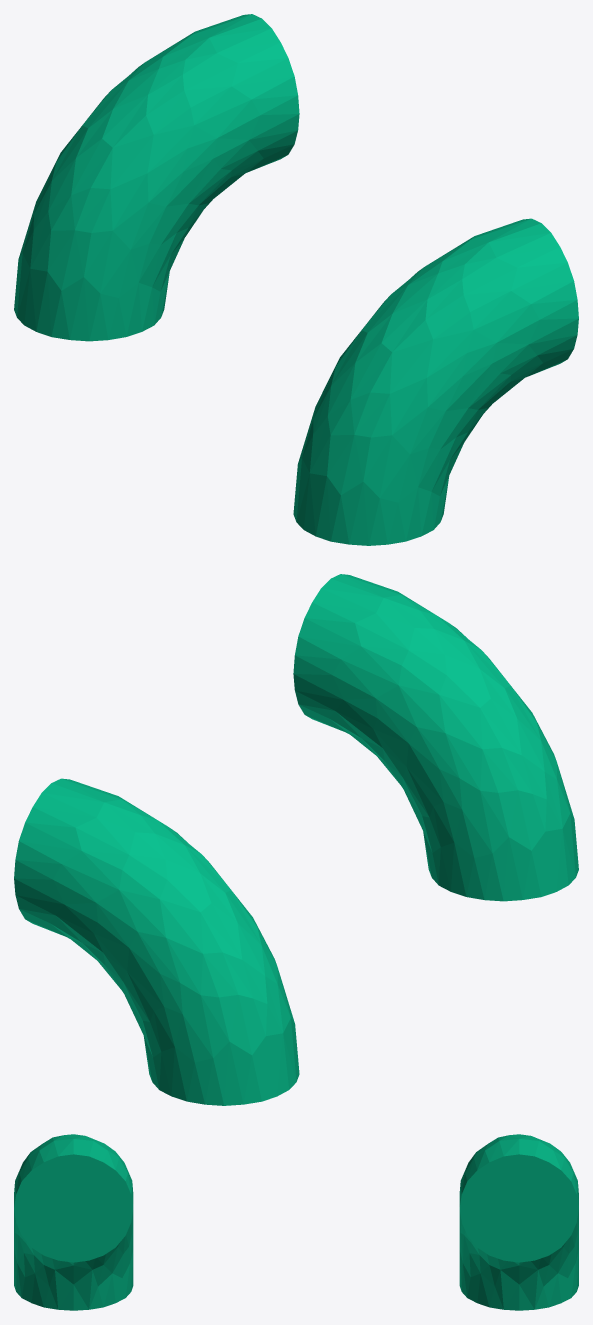
3 views of the same model, one above another, from view 1: azimuth 30°, elevation 25°; view 2: azimuth 150°, elevation 25°; view 3: azimuth 270°, elevation 25° (orthographic). The views are drawn at different scales.
Size of the model in its own units: 0.2095 by 0.2095 by 0.5406.
